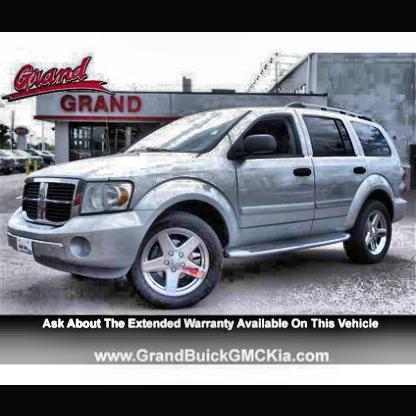Dodge Durango SUV 2007: (9, 104, 409, 311)
